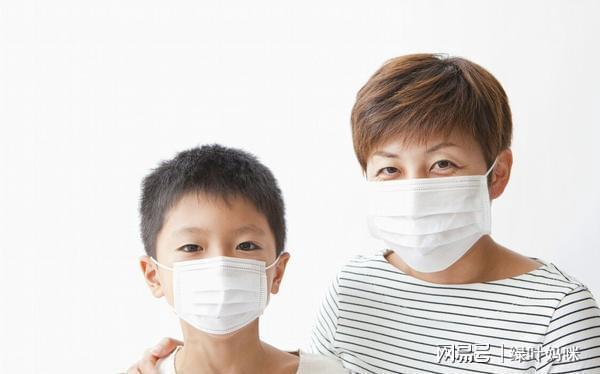mask: (359, 99, 502, 274), (158, 183, 288, 332)
